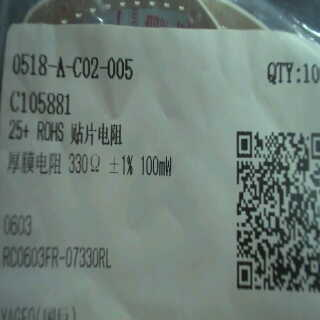330R: (64, 145, 106, 180)
